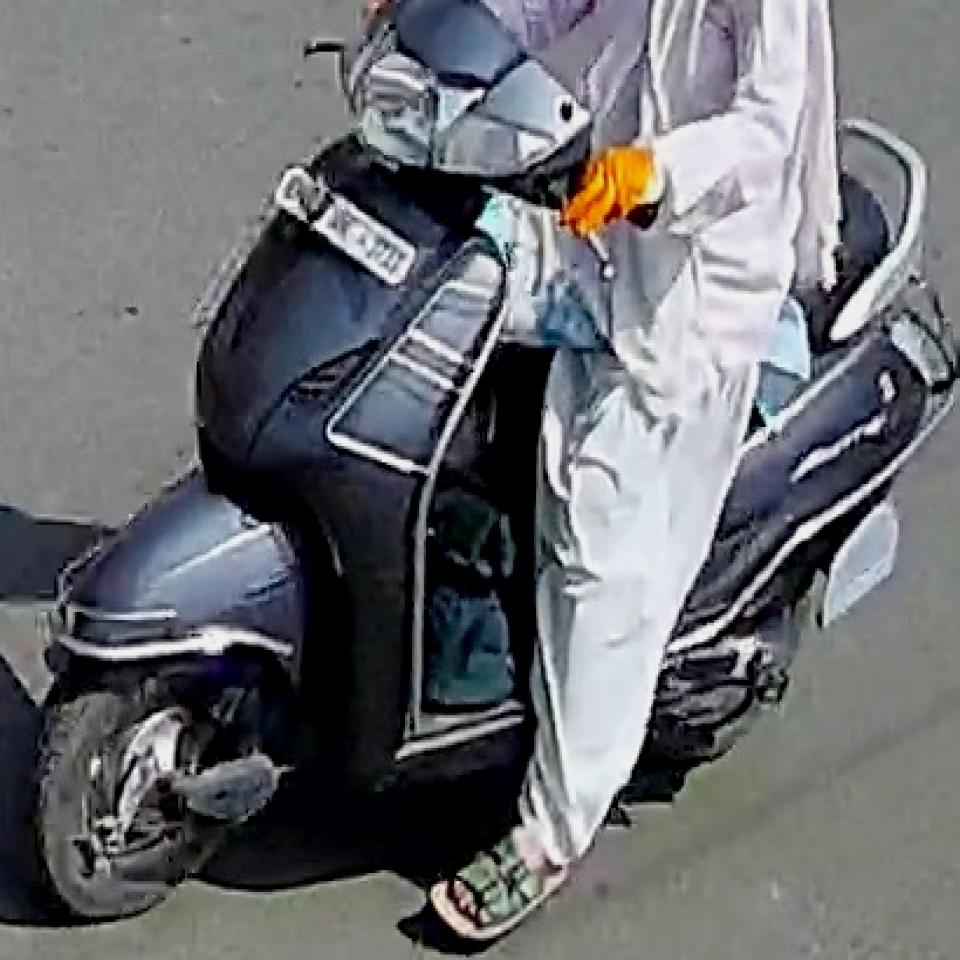head_light: (353, 24, 487, 176)
